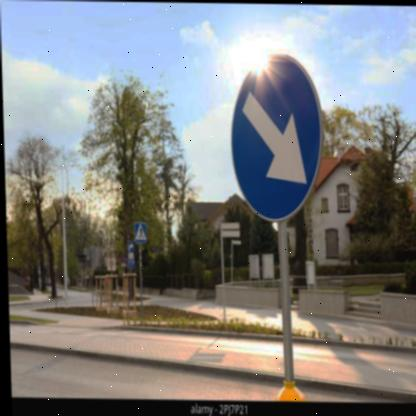Keep right: (229, 50, 325, 225)
